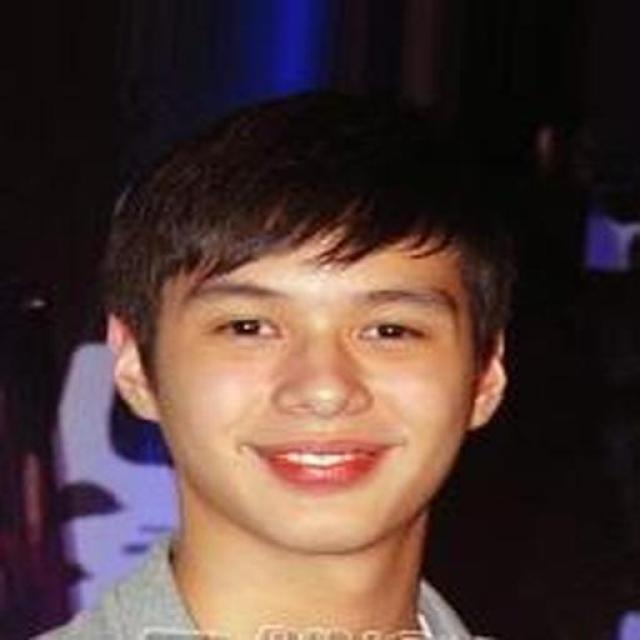bareface: (160, 116, 467, 559)
